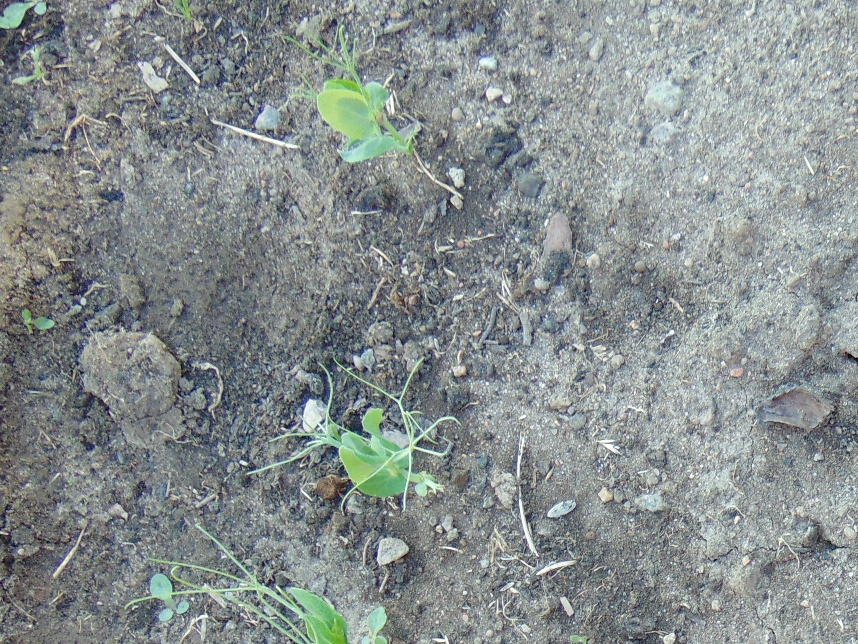crop: (290, 361, 440, 503), (288, 41, 425, 163), (195, 535, 347, 644)
weed: (352, 604, 390, 644), (1, 1, 47, 26)
